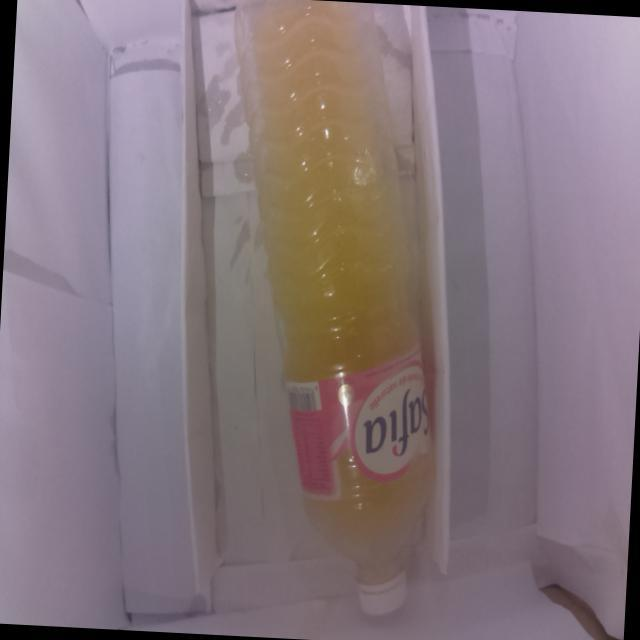good: (196, 0, 463, 626)
